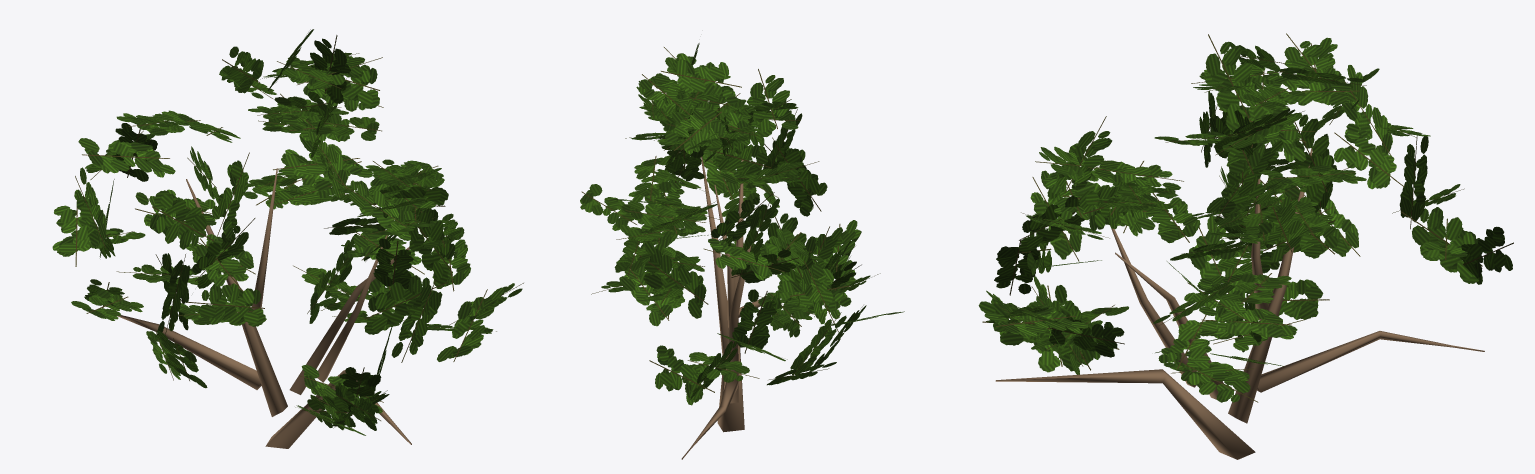
File: mid.glb
3 renders of one model, left to right at view 1: azimuth 30°, elevation 25°; view 2: azimuth 150°, elevation 25°; view 3: azimuth 270°, elevation 25°, orthographic. The views are drawn at different scales.
Parts seen in each view (by area): view 1: foliage.001, bark.001; view 2: foliage.001, bark.001; view 3: foliage.001, bark.001.
Boxes of the visible parts, left/top/right/bottom form: foliage.001: left=52, top=29, right=523, bottom=435; bark.001: left=117, top=168, right=423, bottom=448; foliage.001: left=580, top=43, right=904, bottom=405; bark.001: left=681, top=156, right=775, bottom=459; foliage.001: left=978, top=33, right=1513, bottom=402; bark.001: left=995, top=148, right=1484, bottom=459.
Bounding box in the file's own units: 24.72 × 26.63 × 30.12.
2 materials, 1 textured.
